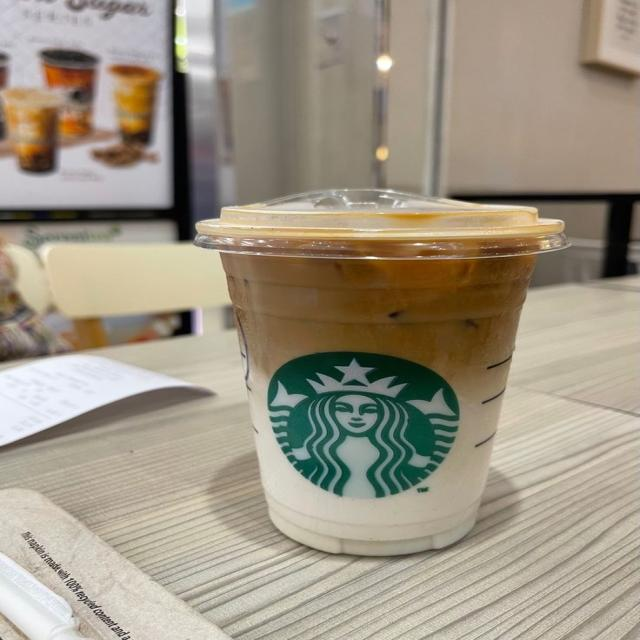plastic cup: (196, 188, 570, 556)
